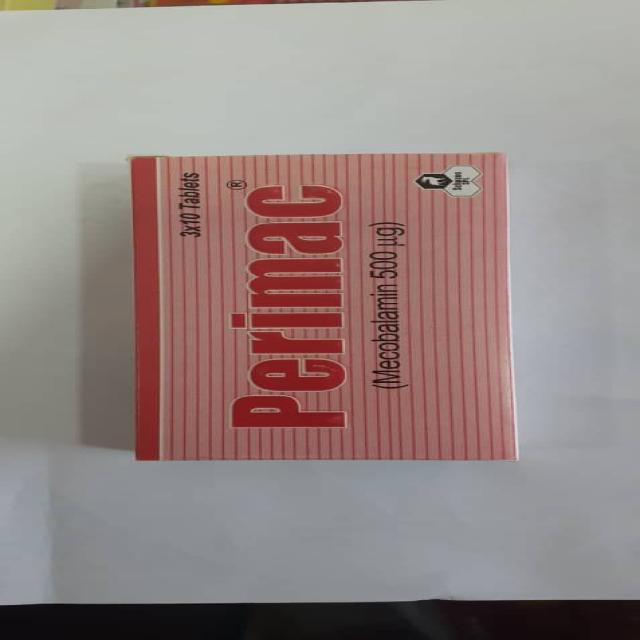drug-name: (215, 176, 352, 432)
